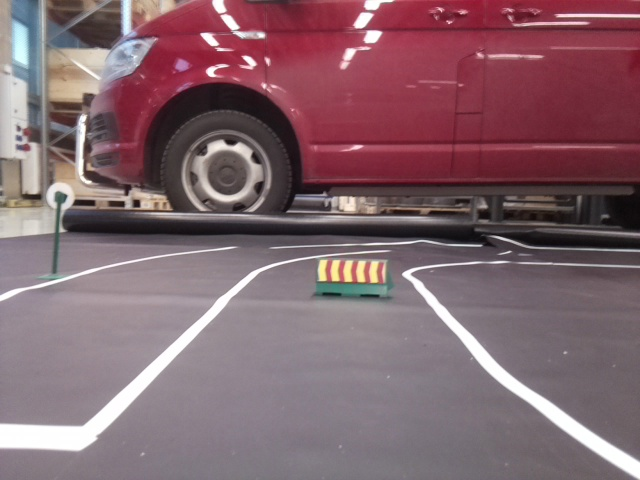ClosedRoadStand: (315, 257, 387, 296)
